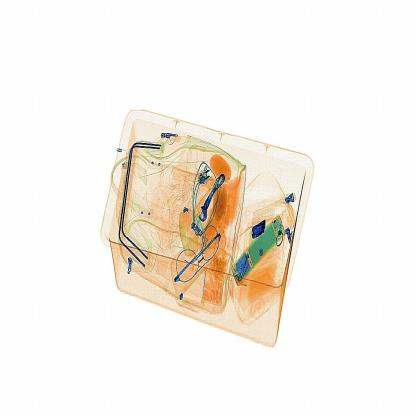knife: (250, 218, 269, 240)
